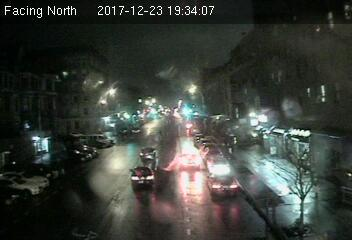car: (205, 171, 240, 196), (128, 166, 157, 187), (205, 154, 231, 175), (176, 152, 202, 171), (138, 146, 159, 161)
